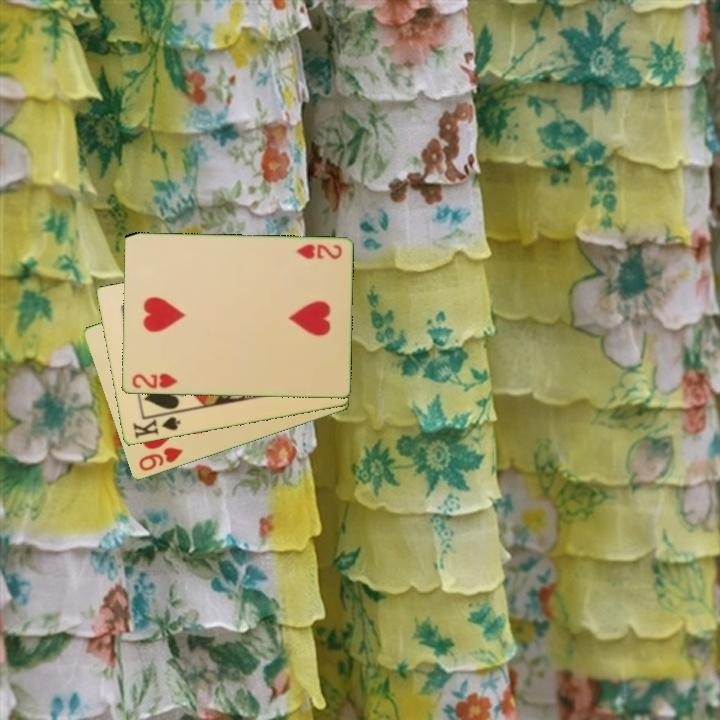2h: (128, 370, 180, 392), (292, 241, 344, 262)
9h: (135, 444, 186, 475)
Ks: (129, 410, 183, 442)
